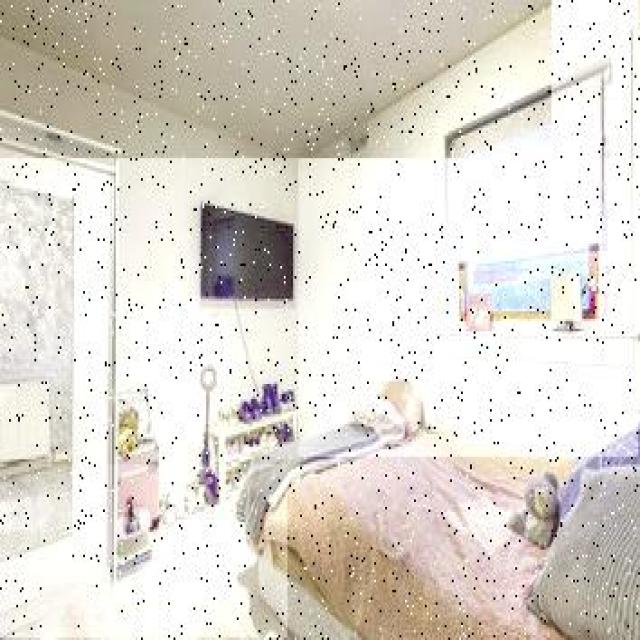Wall: (300, 0, 638, 457), (1, 35, 300, 482), (0, 2, 551, 158), (0, 466, 287, 637), (0, 185, 72, 459), (243, 311, 298, 384)
